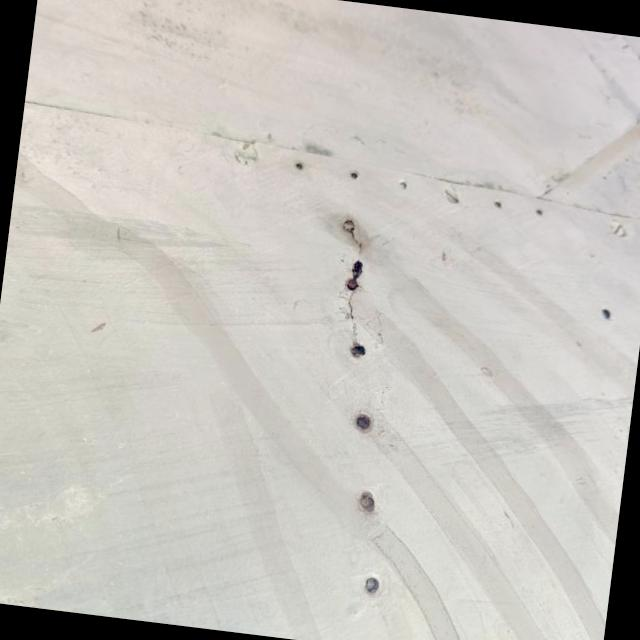crack: (310, 205, 408, 343)
